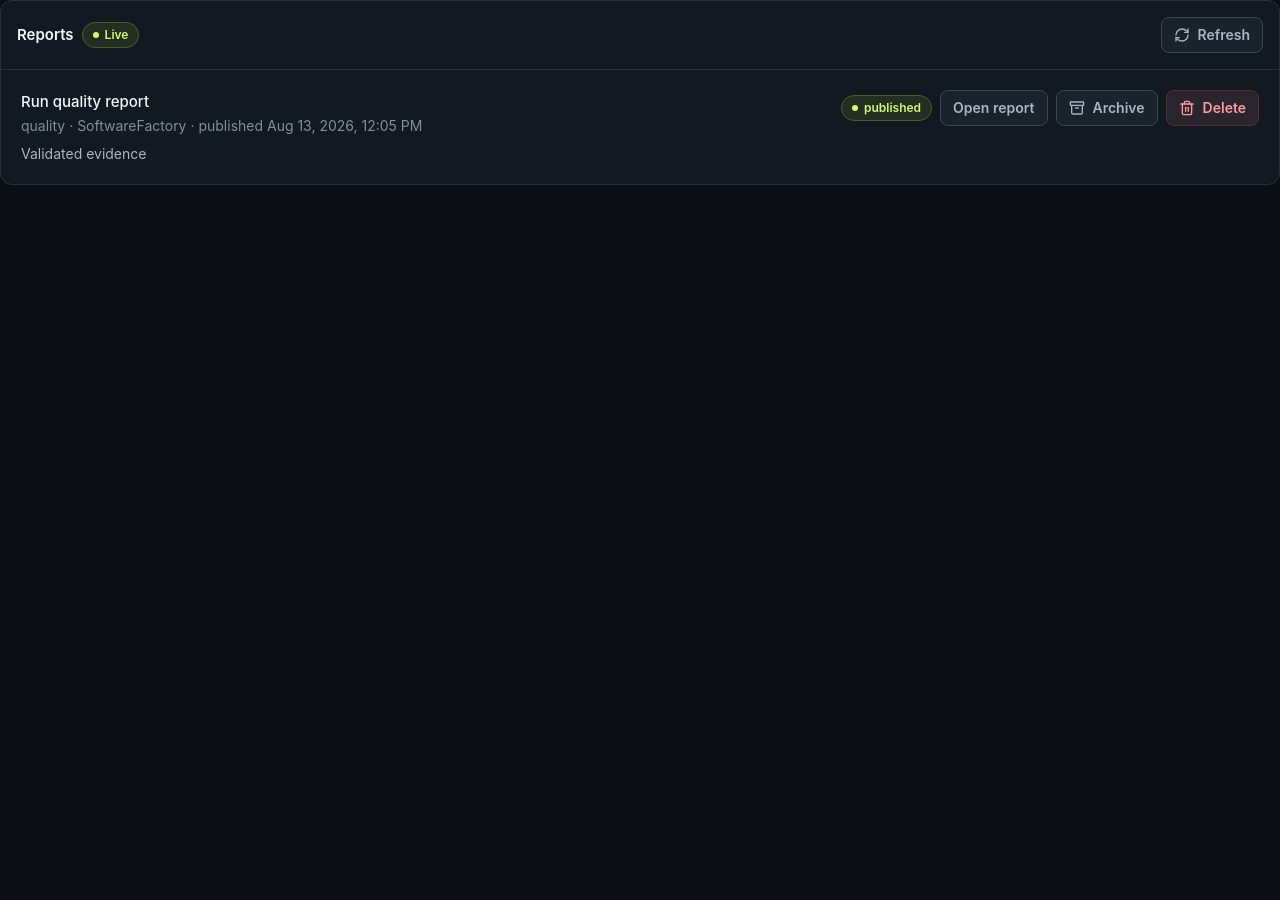
Test: Phase 1C control-plane consoles › renders structured report findings, decisions, runs, and PR evidence
Click the button "Open report" at (994, 108), box [940, 90, 1048, 126]
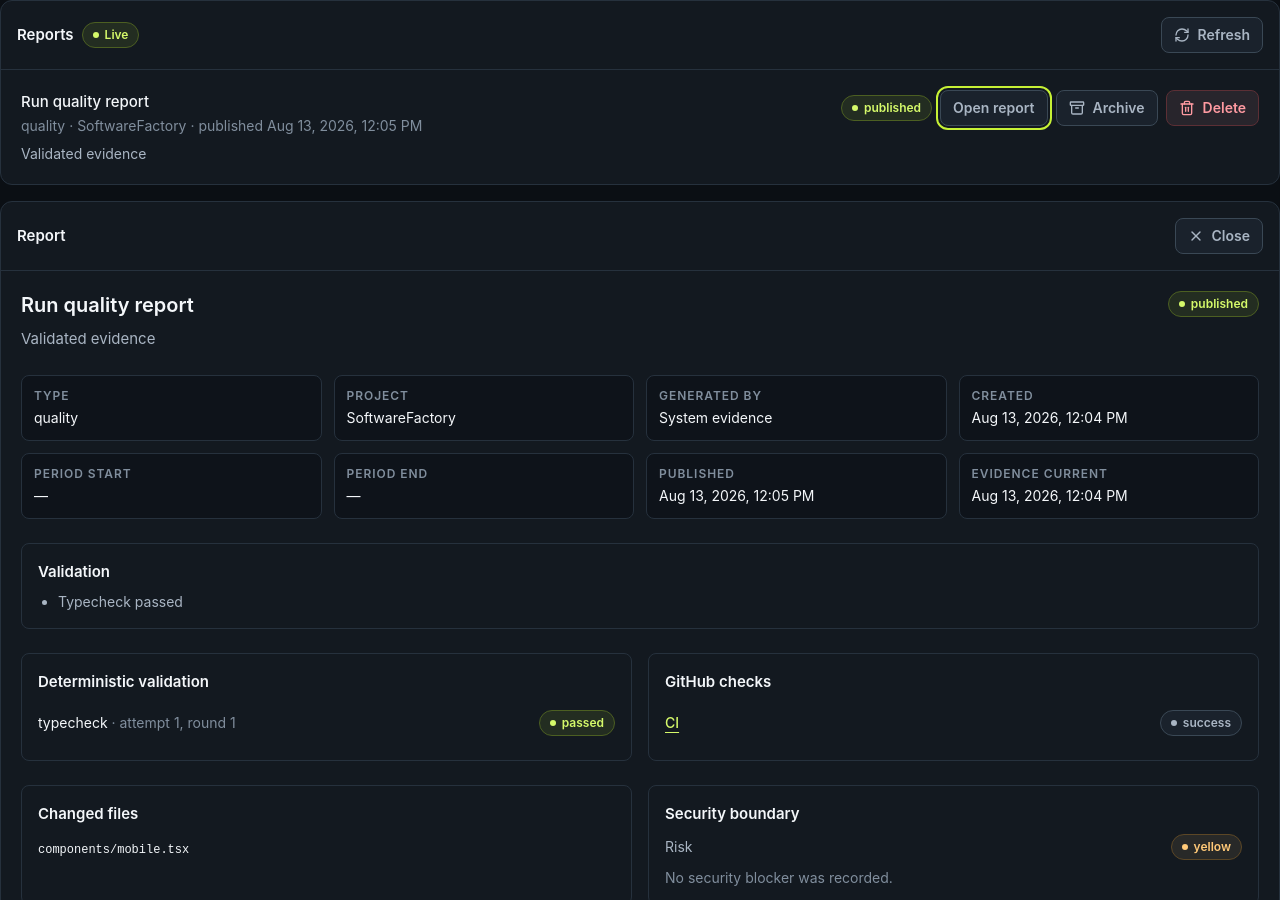
Result: the list item "Typecheck passed" is shown at [58, 593, 183, 610]
Result: the list item "components/mobile.tsx" is shown at [38, 843, 189, 857]
Result: the text "typecheck" is shown at [38, 714, 108, 731]
